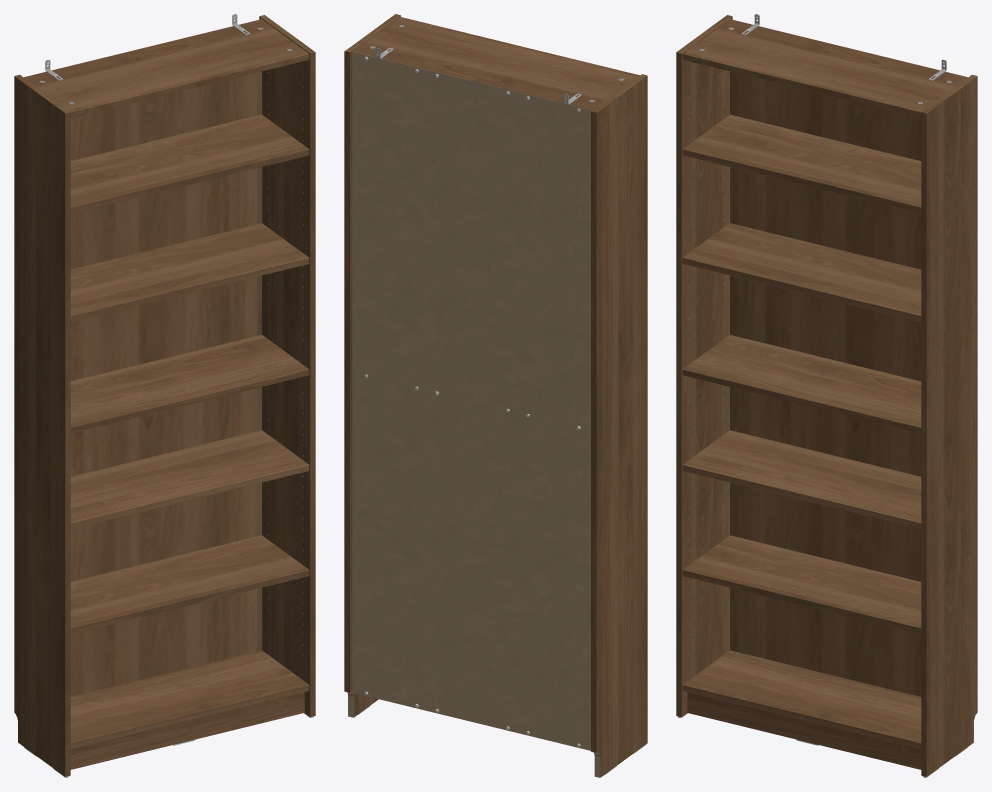
The picture shows the model from 3 angles, left to right: view 1: azimuth 30°, elevation 25°; view 2: azimuth 150°, elevation 25°; view 3: azimuth 330°, elevation 25°; orthographic projection.
Visible parts, largest first — view 1: 30508653-BILLY001; view 2: 30508653-BILLY001; view 3: 30508653-BILLY001.
Part boxes in pixels (x1,y1,x2,y2): 30508653-BILLY001: (14, 14, 315, 777); 30508653-BILLY001: (344, 14, 647, 777); 30508653-BILLY001: (676, 14, 977, 777).
Bounding box in the file's own units: 0.7979 × 2.05 × 0.28.
Materials: 1 (1 with a texture image).
